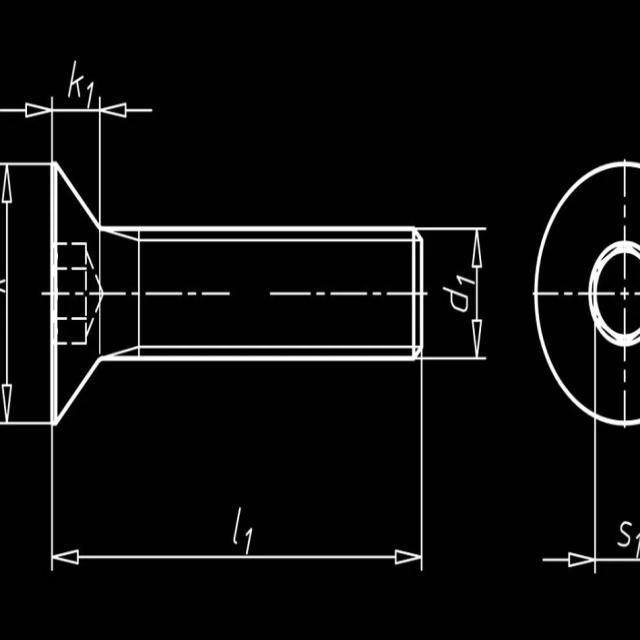marking_line: (56, 545, 422, 570), (0, 167, 24, 426), (470, 235, 491, 354), (1, 93, 51, 118), (538, 550, 594, 570), (100, 106, 162, 119)
numeric: (65, 52, 97, 108), (612, 508, 636, 549)
